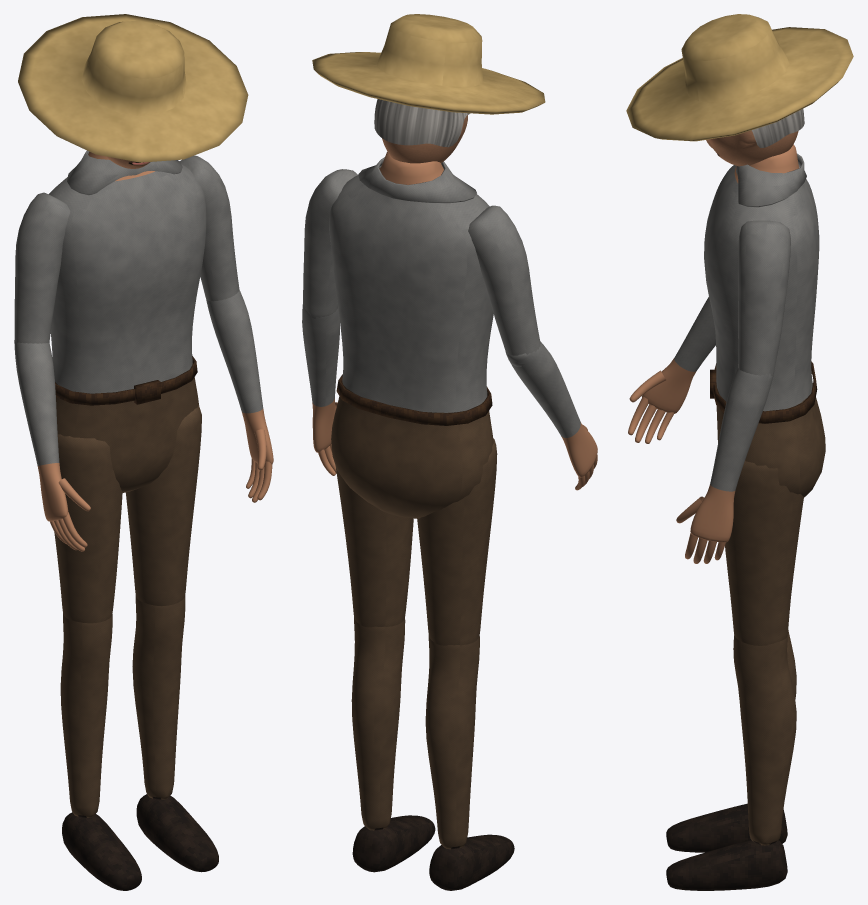
File: persona_hombre_c.obj
3 renders of one model, left to right at view 1: azimuth 30°, elevation 25°; view 2: azimuth 150°, elevation 25°; view 3: azimuth 270°, elevation 25°, orthographic. The views are drawn at different scales.
Visible parts, largest first — view 1: Torso, Sombrero, PiernaIzq, PiernaDer, MusloDer, MusloIzq, AntebrazoDer, BrazoDer, AntebrazoIzq, BrazoIzq, Cuello, Cinturon; view 2: Torso, Sombrero, PiernaDer, PiernaIzq, MusloDer, MusloIzq, BrazoDer, AntebrazoDer, BrazoIzq, AntebrazoIzq, Pelo, Cuello (+2 smaller); view 3: Torso, Sombrero, PiernaIzq, MusloIzq, BrazoIzq, AntebrazoIzq, AntebrazoDer, PiernaDer, Cuello, Cabeza, Cinturon, Pelo.
Boxes of the visible parts, <box> form: Torso: <box>49,151,206,492</box>; Sombrero: <box>18,14,248,162</box>; PiernaIzq: <box>132,595,218,872</box>; PiernaDer: <box>60,613,141,890</box>; MusloDer: <box>54,434,122,623</box>; MusloIzq: <box>125,405,201,606</box>; AntebrazoDer: <box>14,340,90,551</box>; BrazoDer: <box>14,192,70,343</box>; AntebrazoIzq: <box>206,289,273,502</box>; BrazoIzq: <box>180,155,239,301</box>; Cuello: <box>67,150,182,195</box>; Cinturon: <box>55,356,197,405</box>; Torso: <box>329,152,493,518</box>; Sombrero: <box>312,14,545,114</box>; PiernaDer: <box>425,635,514,890</box>; PiernaIzq: <box>351,617,435,872</box>; MusloDer: <box>417,438,497,645</box>; MusloIzq: <box>336,468,413,627</box>; BrazoDer: <box>468,205,540,366</box>; AntebrazoDer: <box>505,341,597,490</box>; BrazoIzq: <box>303,169,357,318</box>; AntebrazoIzq: <box>302,302,339,475</box>; Pelo: <box>374,99,470,147</box>; Cuello: <box>358,157,476,203</box>; Torso: <box>704,144,825,497</box>; Sombrero: <box>626,14,853,141</box>; PiernaIzq: <box>666,635,796,890</box>; MusloIzq: <box>725,460,803,645</box>; BrazoIzq: <box>738,220,790,376</box>; AntebrazoIzq: <box>676,368,772,563</box>; AntebrazoDer: <box>628,297,715,443</box>; PiernaDer: <box>666,630,796,852</box>; Cuello: <box>736,153,806,207</box>; Cabeza: <box>706,130,798,166</box>; Cinturon: <box>710,361,817,423</box>; Pelo: <box>751,109,804,147</box>.
Size of the model in its own units: 0.5507 by 1.81 by 0.4416.
13 materials, 13 textured.
